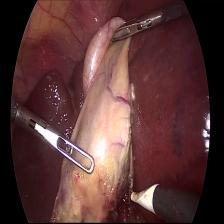Grasper: (16, 98, 94, 184), (111, 6, 163, 47)
Hook: (128, 175, 160, 218)
